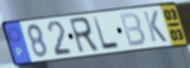2: (46, 20, 74, 58)
8: (26, 22, 48, 59)
B: (118, 11, 147, 49)
K: (141, 9, 169, 43)
L: (91, 15, 121, 52)
R: (67, 16, 101, 56)
